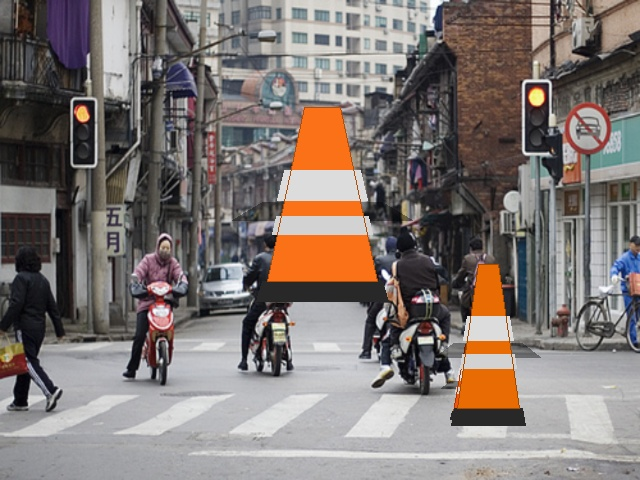traffic-cone: (256, 107, 388, 301), (451, 264, 525, 425), (450, 344, 490, 419)
